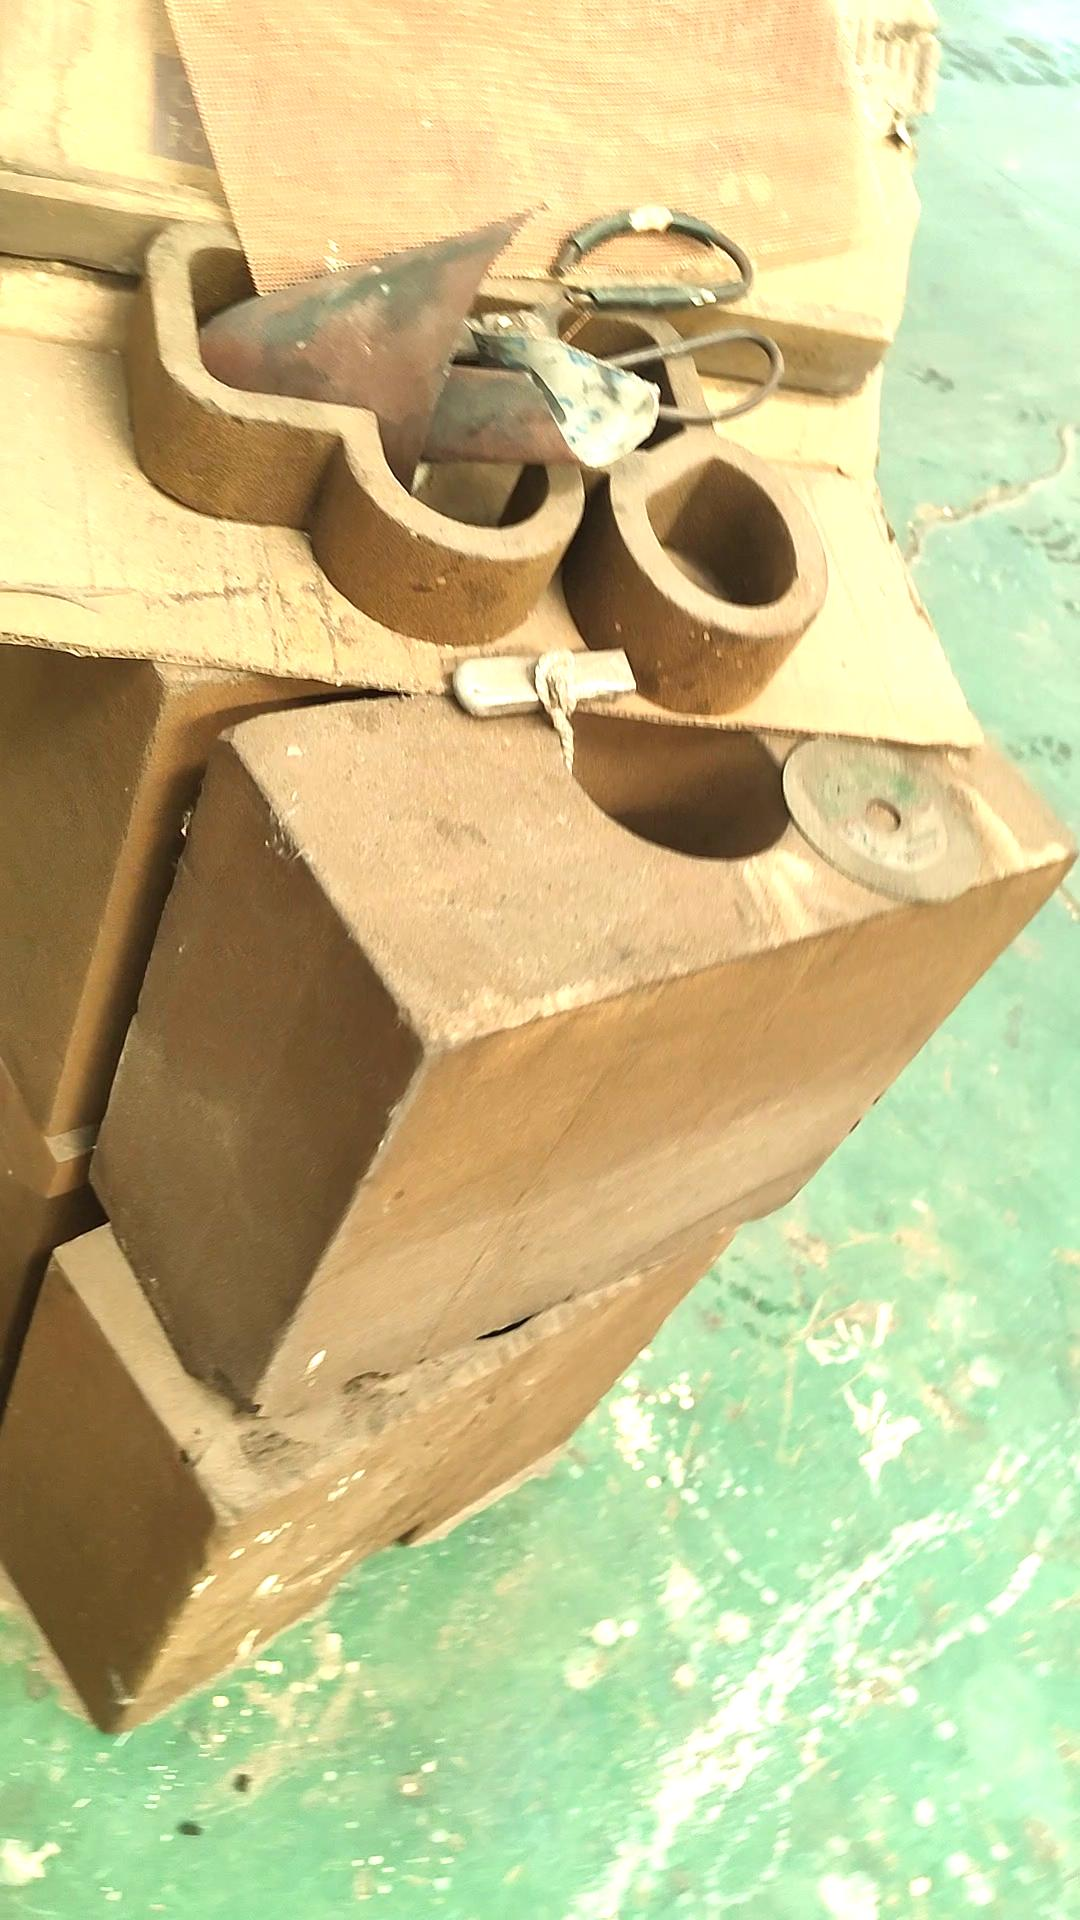pouring hole: (556, 692, 793, 864)
